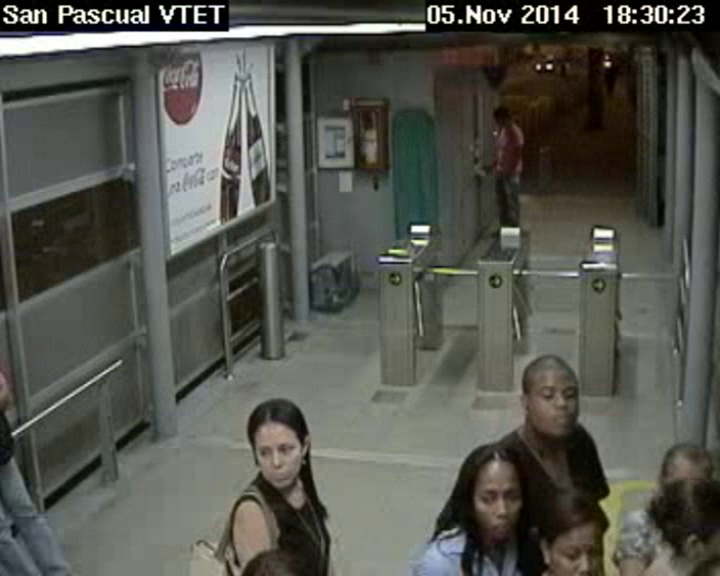person: (236, 397, 317, 493), (642, 472, 720, 568), (452, 440, 525, 540), (535, 481, 606, 576), (520, 345, 584, 441), (653, 440, 716, 499), (492, 105, 513, 128)
